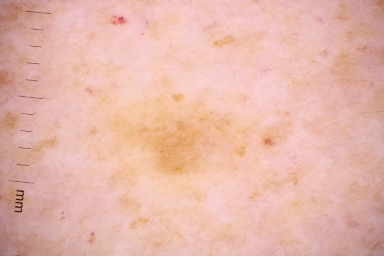melanoma: (106, 106, 255, 172)
